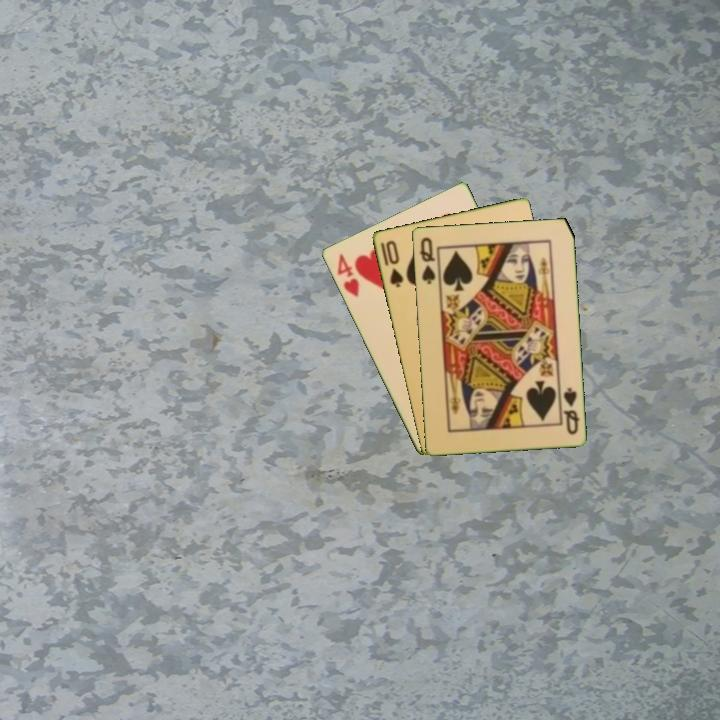10s: (377, 237, 406, 290)
4h: (333, 249, 362, 300)
Qs: (557, 384, 582, 437), (416, 233, 438, 287)
